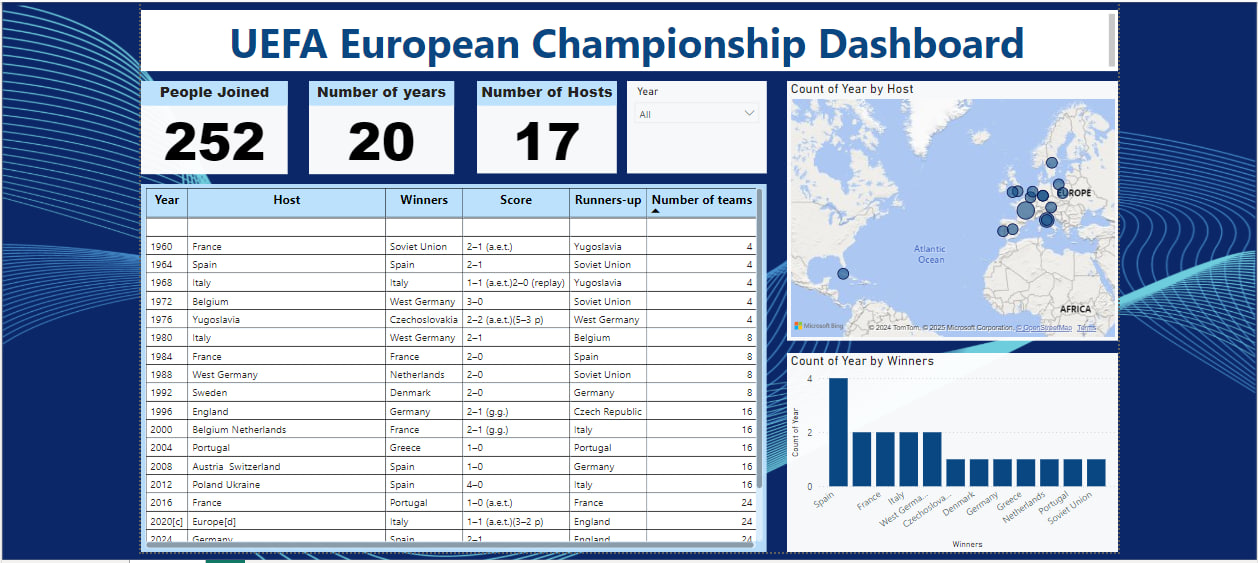

What the dashboard file says about the page in this screenshot:
{"tool":"powerbi","page":{"name":"Page 1","canvas":[1280,720],"ordinal":0},"visuals":[{"type":"card","title":"Number of Hosts","fields":{"Values":["Count(UEFA_European_Championship.Host)"]},"box":[440.3,103.7,183.2,121.4],"z":0},{"type":"card","title":" People Joined","fields":{"Values":["Sum(UEFA_European_Championship.Number of teams)"]},"box":[0,103.4,192.4,121.7],"z":1000},{"type":"card","title":"Number of years","fields":{"Values":["Count(UEFA_European_Championship.Year)"]},"box":[219.9,103.4,189.8,121.7],"z":2000},{"type":"columnChart","fields":{"Category":["UEFA_European_Championship.Winners"],"Y":["CountNonNull(UEFA_European_Championship.Year)"]},"box":[845.7,459.5,434.6,260.5],"z":3000},{"type":"tableEx","fields":{"Values":["UEFA_European_Championship.Year","UEFA_European_Championship.Host","UEFA_European_Championship.Winners","UEFA_European_Championship.Score","UEFA_European_Championship.Runners-up","UEFA_European_Championship.Number of teams"]},"box":[0,238.3,819.5,481.7],"z":4000},{"type":"map","fields":{"Category":["UEFA_European_Championship.Host"],"Size":["CountNonNull(UEFA_European_Championship.Year)"]},"box":[845.7,103.4,434.6,340.4],"z":5000},{"type":"slicer","fields":{"Values":["UEFA_European_Championship.Year"]},"box":[636.7,103.7,183.2,121.4],"z":6000},{"type":"textbox","box":[0,10.5,1280.3,79.9],"z":7000}]}

Visuals, with their boxes in screenshot pixels (x1, y1, x2, y2):
"Number of Hosts" card: 471, 77, 612, 170
" People Joined" card: 131, 77, 280, 170
"Number of years" card: 301, 77, 447, 170
columnChart - UEFA_European_Championship.Winners x CountNonNull(UEFA_European_Championship.Year): 784, 351, 1119, 552
tableEx - UEFA_European_Championship.Year x UEFA_European_Championship.Host: 131, 181, 764, 552
map - UEFA_European_Championship.Host x CountNonNull(UEFA_European_Championship.Year): 784, 77, 1119, 339
slicer - UEFA_European_Championship.Year: 622, 77, 764, 170
textbox: 131, 5, 1119, 66
